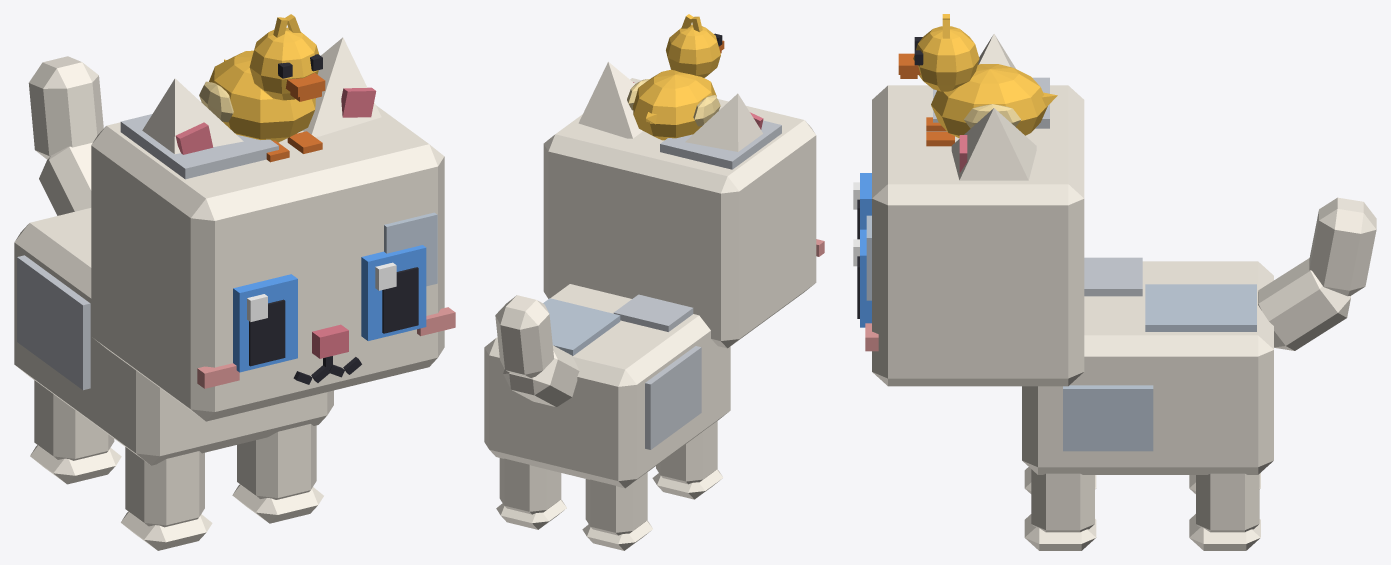
File: CatCafe_Cat_Duckling.glb
3 renders of one model, left to right at view 1: azimuth 30°, elevation 25°; view 2: azimuth 150°, elevation 25°; view 3: azimuth 270°, elevation 25°, orthographic. The views are drawn at different scales.
Parts seen in each view (by area): view 1: CatCafe_Cat_Duckling_Head, CatCafe_Cat_Duckling_Body, CatCafe_Cat_Duckling_Prop, CatCafe_Cat_Duckling_Tail, CatCafe_Cat_Duckling_LegF2, CatCafe_Cat_Duckling_LegF1, CatCafe_Cat_Duckling_Eye2, CatCafe_Cat_Duckling_Eye1, CatCafe_Cat_Duckling_LegB2, CatCafe_Cat_Duckling_EarL, CatCafe_Cat_Duckling_EarR; view 2: CatCafe_Cat_Duckling_Head, CatCafe_Cat_Duckling_Body, CatCafe_Cat_Duckling_Prop, CatCafe_Cat_Duckling_Tail, CatCafe_Cat_Duckling_LegB2, CatCafe_Cat_Duckling_LegB1, CatCafe_Cat_Duckling_LegF2, CatCafe_Cat_Duckling_EarL, CatCafe_Cat_Duckling_EarR; view 3: CatCafe_Cat_Duckling_Head, CatCafe_Cat_Duckling_Body, CatCafe_Cat_Duckling_Tail, CatCafe_Cat_Duckling_Prop, CatCafe_Cat_Duckling_LegF1, CatCafe_Cat_Duckling_LegB1, CatCafe_Cat_Duckling_EarL, CatCafe_Cat_Duckling_Eye1, CatCafe_Cat_Duckling_Eye2, CatCafe_Cat_Duckling_EarR.
Part boxes in pixels (bbox=[...]): CatCafe_Cat_Duckling_Head: bbox=[91, 102, 455, 421]; CatCafe_Cat_Duckling_Body: bbox=[14, 208, 333, 465]; CatCafe_Cat_Duckling_Prop: bbox=[199, 14, 325, 162]; CatCafe_Cat_Duckling_Tail: bbox=[28, 56, 103, 215]; CatCafe_Cat_Duckling_LegF2: bbox=[121, 447, 212, 550]; CatCafe_Cat_Duckling_LegF1: bbox=[232, 424, 323, 523]; CatCafe_Cat_Duckling_Eye2: bbox=[233, 274, 297, 372]; CatCafe_Cat_Duckling_Eye1: bbox=[361, 245, 426, 340]; CatCafe_Cat_Duckling_LegB2: bbox=[30, 380, 121, 484]; CatCafe_Cat_Duckling_EarL: bbox=[302, 37, 381, 136]; CatCafe_Cat_Duckling_EarR: bbox=[142, 78, 243, 154]; CatCafe_Cat_Duckling_Head: bbox=[543, 78, 824, 348]; CatCafe_Cat_Duckling_Body: bbox=[484, 284, 730, 488]; CatCafe_Cat_Duckling_Prop: bbox=[627, 14, 724, 140]; CatCafe_Cat_Duckling_Tail: bbox=[495, 295, 579, 407]; CatCafe_Cat_Duckling_LegB2: bbox=[582, 472, 652, 550]; CatCafe_Cat_Duckling_LegB1: bbox=[496, 458, 566, 529]; CatCafe_Cat_Duckling_LegF2: bbox=[652, 421, 723, 499]; CatCafe_Cat_Duckling_EarL: bbox=[578, 62, 642, 138]; CatCafe_Cat_Duckling_EarR: bbox=[685, 93, 763, 151]; CatCafe_Cat_Duckling_Head: bbox=[865, 77, 1084, 386]; CatCafe_Cat_Duckling_Body: bbox=[1022, 257, 1273, 474]; CatCafe_Cat_Duckling_Tail: bbox=[1258, 197, 1376, 350]; CatCafe_Cat_Duckling_Prop: bbox=[898, 14, 1057, 146]; CatCafe_Cat_Duckling_LegF1: bbox=[1024, 469, 1096, 550]; CatCafe_Cat_Duckling_LegB1: bbox=[1189, 473, 1260, 550]; CatCafe_Cat_Duckling_EarL: bbox=[951, 108, 1036, 180]; CatCafe_Cat_Duckling_Eye1: bbox=[853, 229, 871, 327]; CatCafe_Cat_Duckling_Eye2: bbox=[853, 173, 871, 239]; CatCafe_Cat_Duckling_EarR: bbox=[978, 34, 1015, 68].
Bounding box in the file's own units: 1 × 2.08 × 1.97.
Materials: 1 (1 with a texture image).
